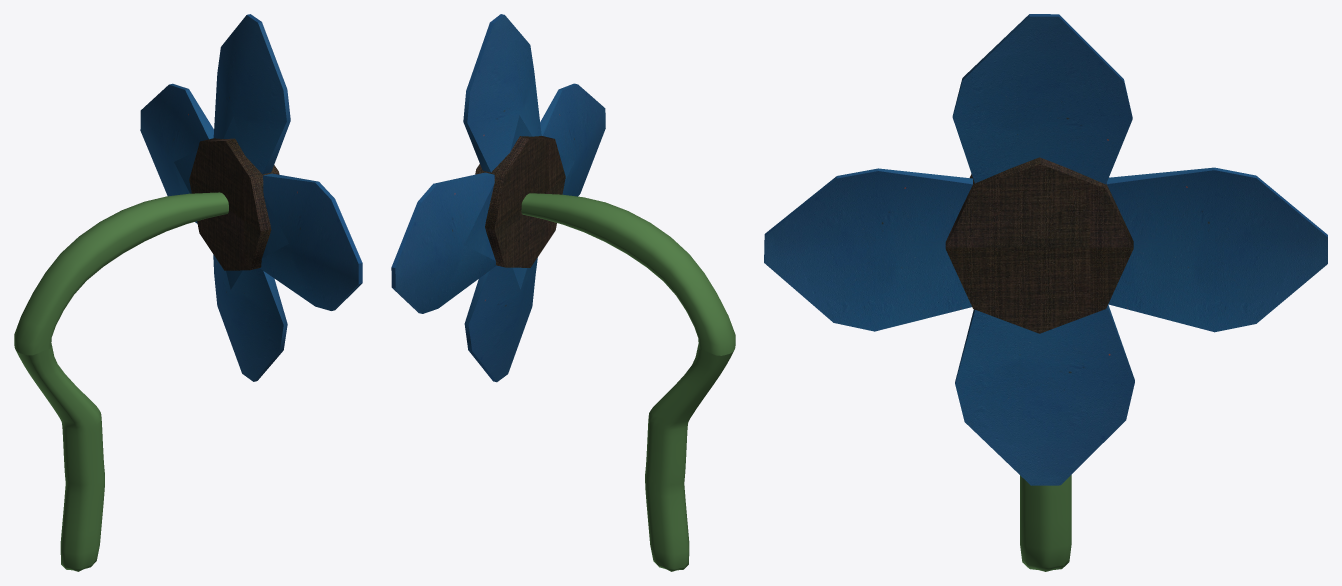
File: blue_flower_.fbx
The picture shows the model from 3 angles, left to right: view 1: azimuth 30°, elevation 25°; view 2: azimuth 150°, elevation 25°; view 3: azimuth 270°, elevation 25°; orthographic projection. The views are drawn at different scales.
Parts seen in each view (by area): view 1: Petals, Ovale, Stem; view 2: Petals, Ovale, Stem; view 3: Petals, Ovale, Stem.
Part boxes in pixels (box(x1,y1,x2,y2)): Petals: box(140, 14, 362, 381); Ovale: box(14, 138, 279, 355); Stem: box(16, 343, 104, 571); Petals: box(391, 14, 605, 382); Ovale: box(475, 136, 735, 355); Stem: box(645, 344, 733, 571); Petals: box(764, 14, 1327, 485); Ovale: box(945, 157, 1133, 333); Stem: box(1020, 475, 1071, 571).
Bounding box in the file's own units: 25.06 × 50.84 × 39.04.
3 materials, 3 textured.
